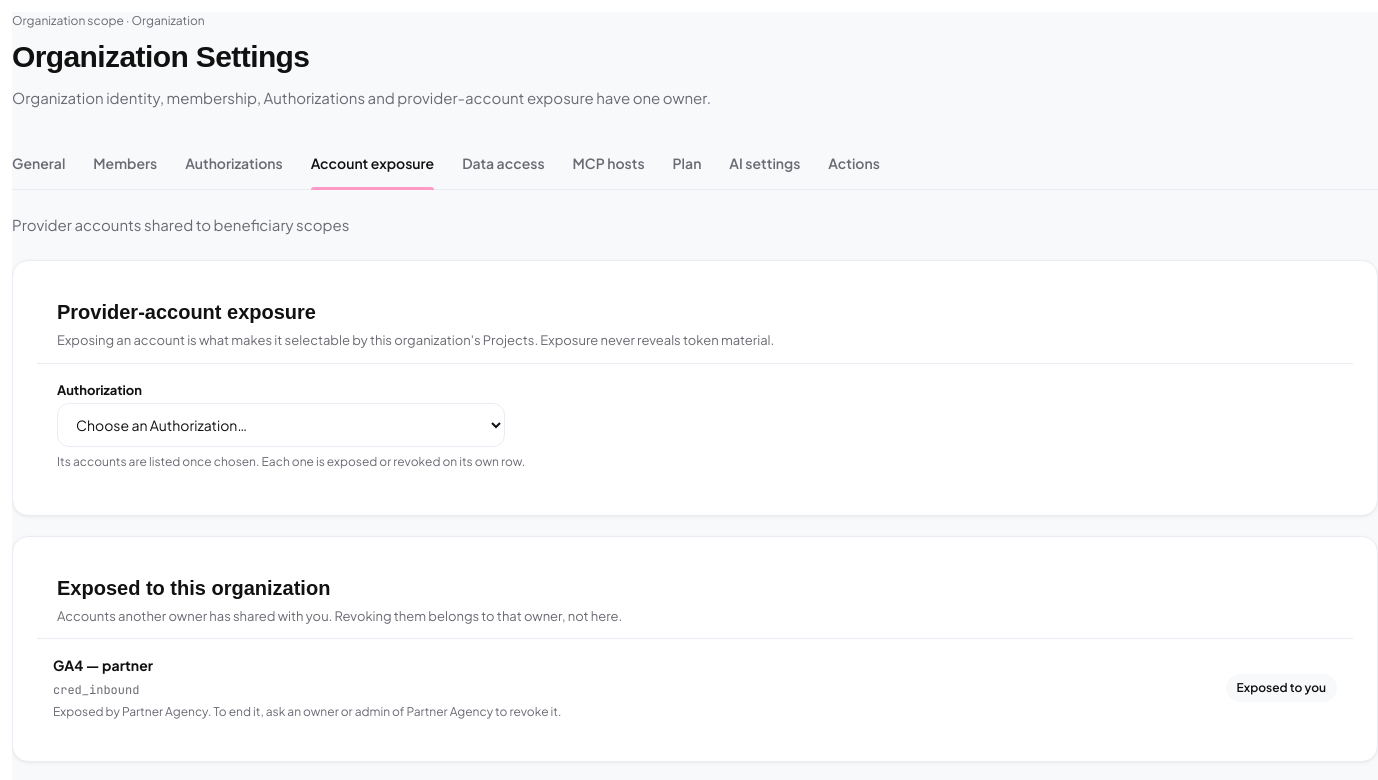
Test: Account exposure › offers Revoke, not Expose, on an account already exposed here
Select "Google Ads — house" in the dropdown with test id "exposure-credential" at (281,424), box [57,402,505,446]
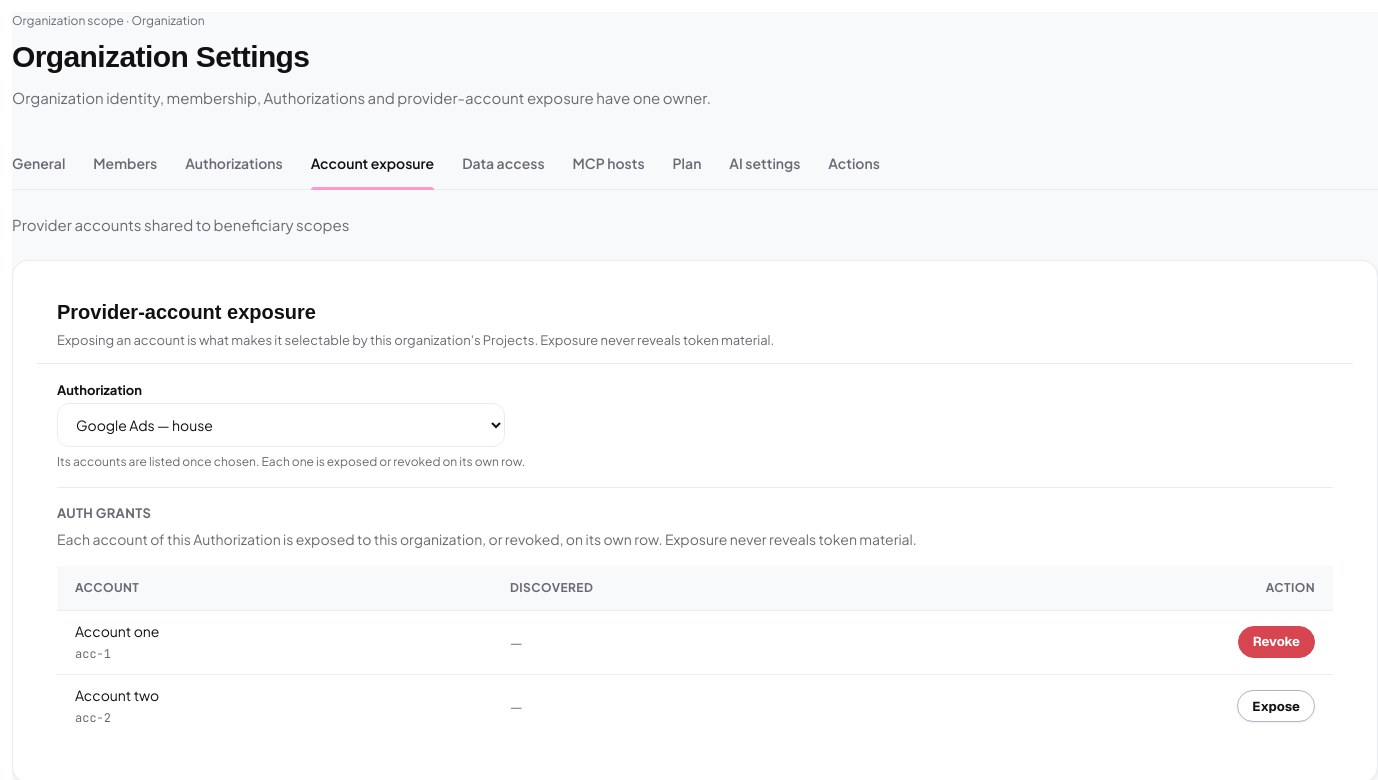
Expected: the button with test id "revoke-grant-acc-1" is shown, [1238,626,1315,658]
Expected: the button with test id "expose-grant-acc-2" is shown, [1237,690,1315,722]
